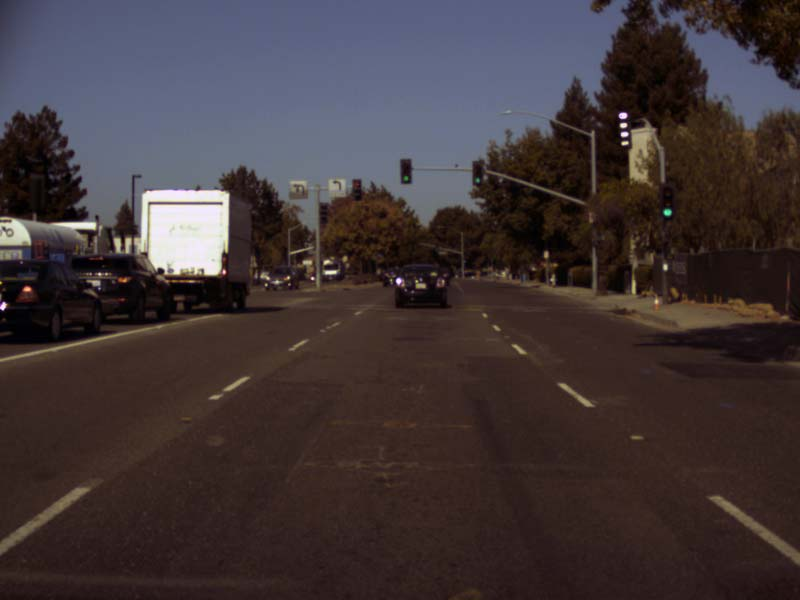Green: (658, 183, 676, 220), (400, 157, 411, 184), (472, 159, 482, 185)
Red: (352, 179, 362, 199)
